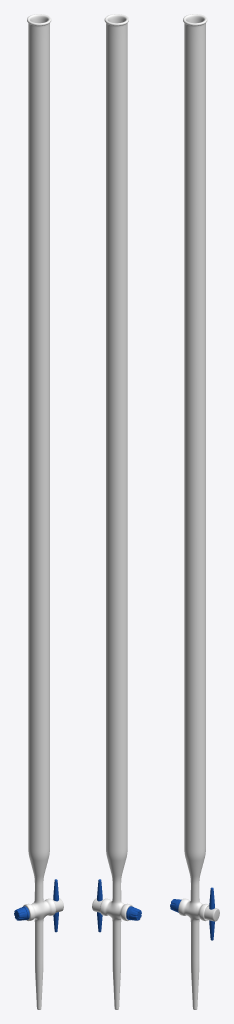
The model's file is burette 3D model.fbx.
3 renders of one model, left to right at view 1: azimuth 30°, elevation 25°; view 2: azimuth 150°, elevation 25°; view 3: azimuth 330°, elevation 25°, orthographic.
Visible parts, largest first — view 1: burette, stopcock; view 2: burette, stopcock; view 3: burette, stopcock.
Boxes of the visible parts, x1,y1,x2,y2 form: burette: (23, 14, 55, 1009); stopcock: (14, 879, 63, 932); burette: (100, 14, 132, 1009); stopcock: (92, 879, 141, 932); burette: (178, 14, 209, 1009); stopcock: (170, 887, 219, 940).
Size of the model in its own units: 3.4 by 72.48 by 1.63.
